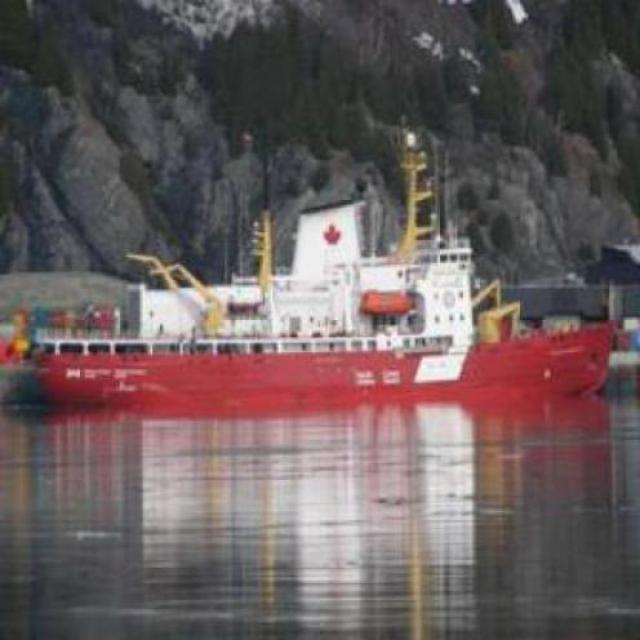boat: (26, 252, 618, 402)
